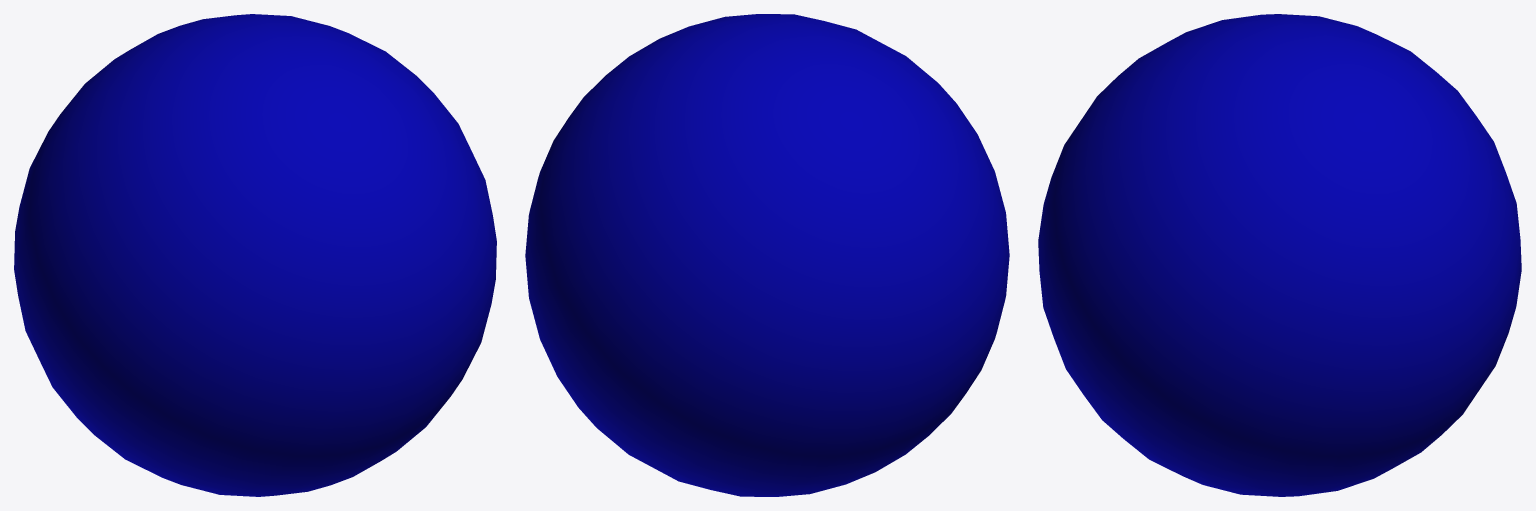
Rendered from ball_galaxy.obj.
The picture shows the model from 3 angles, left to right: view 1: azimuth 30°, elevation 25°; view 2: azimuth 150°, elevation 25°; view 3: azimuth 270°, elevation 25°; orthographic projection.
Parts seen in each view (by area): view 1: Moon_Cube.003; view 2: Moon_Cube.003; view 3: Moon_Cube.003.
Part boxes in pixels (<box>): Moon_Cube.003: <box>14,14,496,496</box>; Moon_Cube.003: <box>525,14,1009,496</box>; Moon_Cube.003: <box>1038,14,1521,496</box>.
Bounding box in the file's own units: 1.77 × 1.77 × 1.77.
